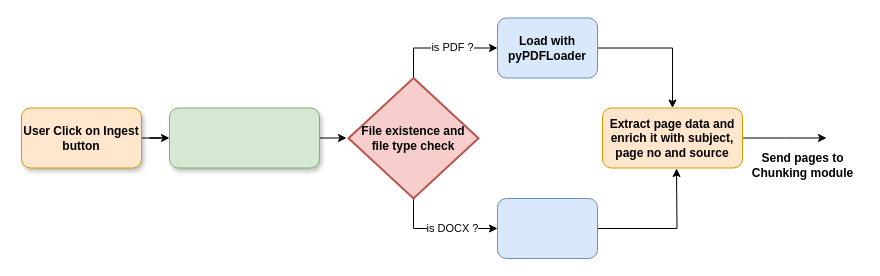
The diagram is 880 pixels wide and 276 high, and some of its shapes have lost their labels. Each missing label, with the centre of its shape:
"/ingest API called with subject, filename, use_llmaparse=false" belongs at (245,139).
"Load with Docx2txtLoader" belongs at (547,228).
